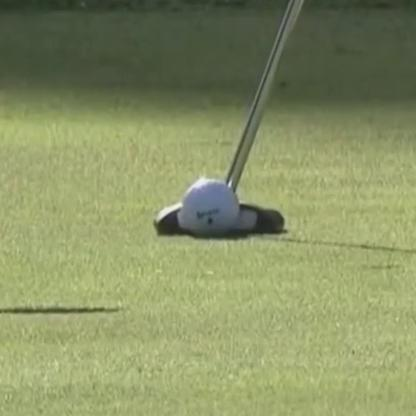golfball: (178, 173, 237, 236)
